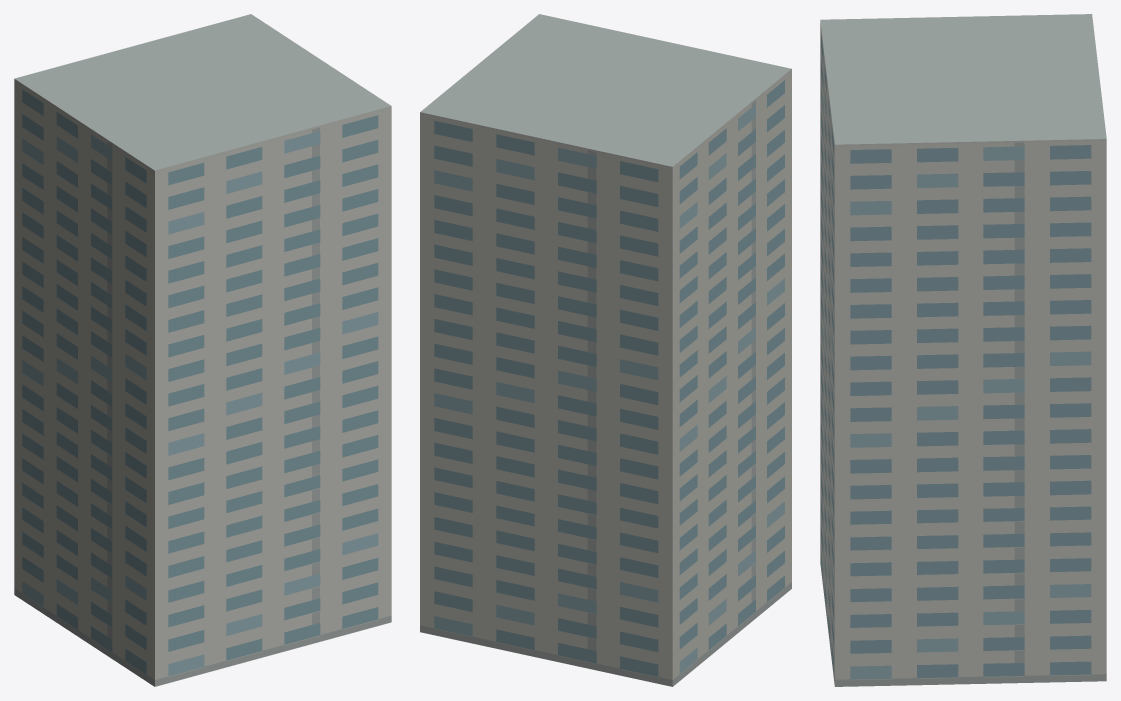
The model's file is residential-c930029b-bf3d-4af2-a786-a93833826251.glb.
3 renders of one model, left to right at view 1: azimuth 30°, elevation 25°; view 2: azimuth 150°, elevation 25°; view 3: azimuth 270°, elevation 25°, orthographic. The views are drawn at different scales.
Parts seen in each view (by area): view 1: residential-c930029b-bf3d-4af2-a786-a93833826251.tmp; view 2: residential-c930029b-bf3d-4af2-a786-a93833826251.tmp; view 3: residential-c930029b-bf3d-4af2-a786-a93833826251.tmp.
Part boxes in pixels (box(x1,y1,x2,y2)): residential-c930029b-bf3d-4af2-a786-a93833826251.tmp: box(14, 14, 391, 686); residential-c930029b-bf3d-4af2-a786-a93833826251.tmp: box(420, 14, 791, 686); residential-c930029b-bf3d-4af2-a786-a93833826251.tmp: box(820, 14, 1106, 686).
Size of the model in its own units: 36.7 by 71 by 34.01.
